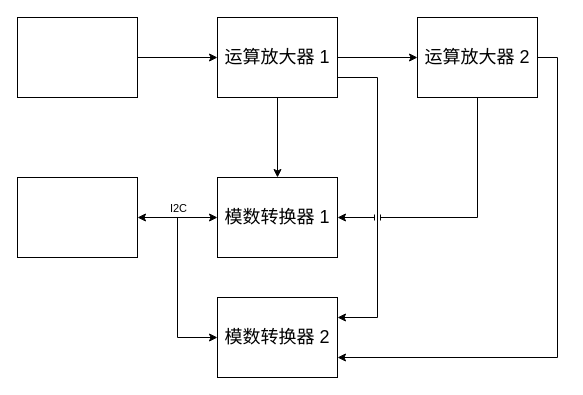
Some shapes in this 583 by 395 pixel diagram are drawn without their labels. The centre of each missing label's shape, as x and y in pixels:
"主控芯片" goes at pixel 77 217.
"电荷藕合器件图像传感器" goes at pixel 77 57.
